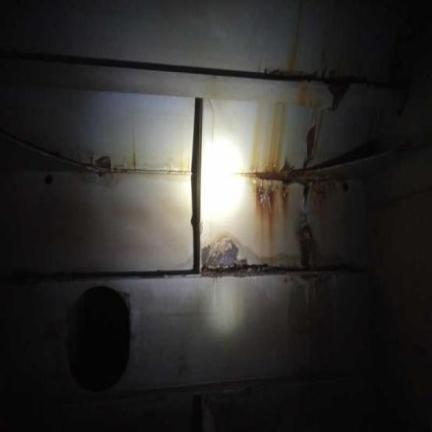besi_tidak_karat: (0, 0, 409, 83), (201, 99, 378, 263), (0, 171, 192, 273), (0, 87, 193, 171), (0, 59, 332, 107), (340, 83, 404, 112)
karat: (112, 236, 353, 277), (236, 145, 429, 183), (202, 235, 248, 270), (258, 181, 271, 208), (9, 272, 41, 281), (94, 155, 111, 169)
